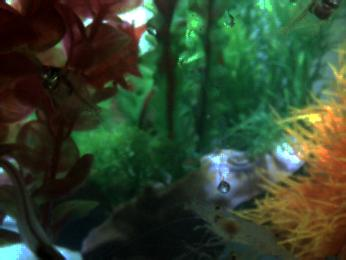X-ray fish: (37, 65, 118, 132), (272, 1, 345, 48)
glassfish: (1, 154, 71, 260)
siberian prawn: (179, 201, 297, 260)
